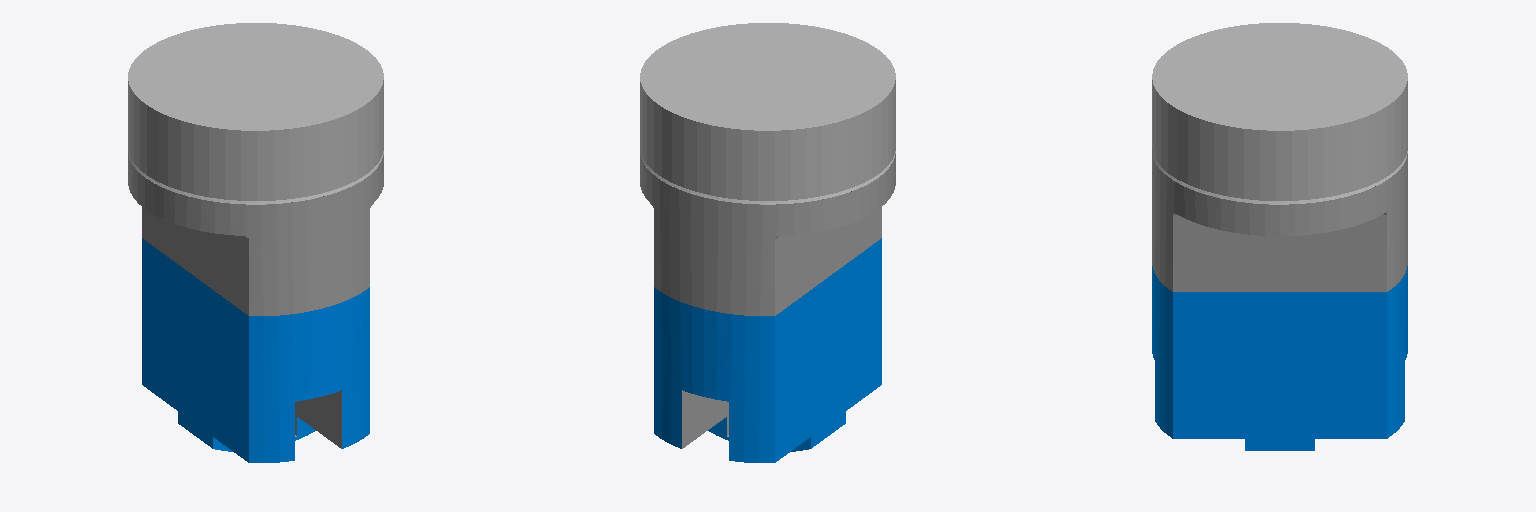
The model's file is Gripper2F0.obj.
The picture shows the model from 3 angles: view 1: azimuth 30°, elevation 25°; view 2: azimuth 150°, elevation 25°; view 3: azimuth 270°, elevation 25°; orthographic projection.
Bounding box in the file's own units: 0.033 × 0.051 × 0.033.